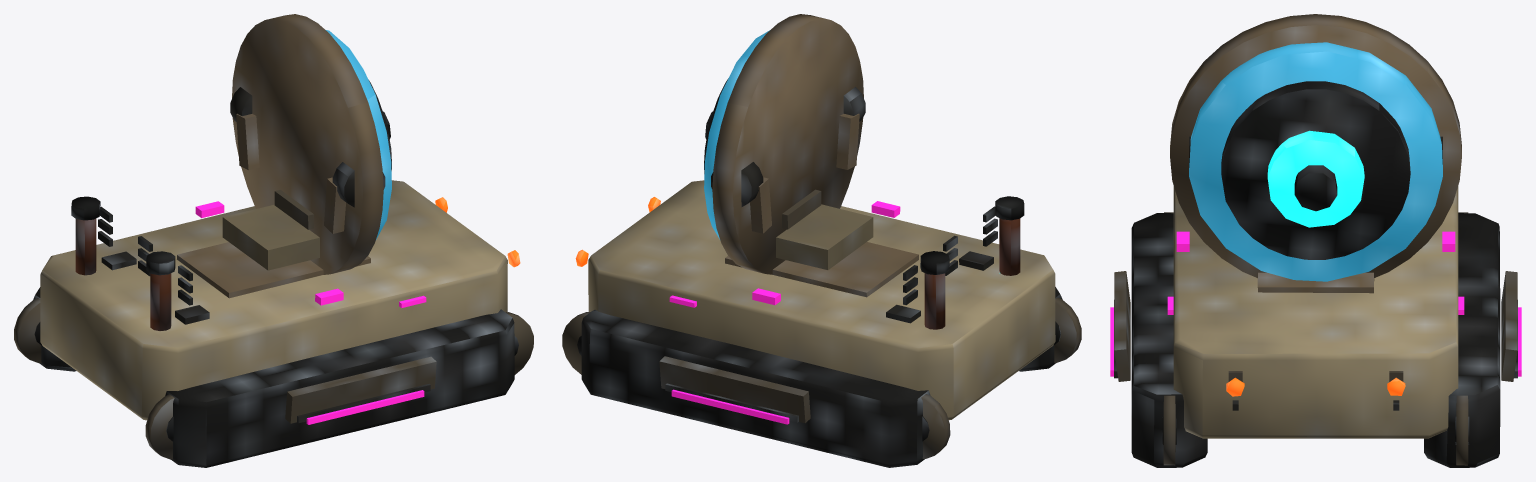
The model's file is sonic_tank.glb.
The picture shows the model from 3 angles, left to right: view 1: azimuth 30°, elevation 25°; view 2: azimuth 150°, elevation 25°; view 3: azimuth 270°, elevation 25°; orthographic projection. The views are drawn at different scales.
Visible parts, largest first — view 1: Sandwar3D; view 2: Sandwar3D; view 3: Sandwar3D.
Boxes of the visible parts, x1,y1,x2,y2 form: Sandwar3D: [14, 14, 533, 467]; Sandwar3D: [562, 14, 1081, 467]; Sandwar3D: [1110, 14, 1521, 467].
Bounding box in the file's own units: 1.89 × 1.54 × 1.52.
14 materials, 13 textured.
